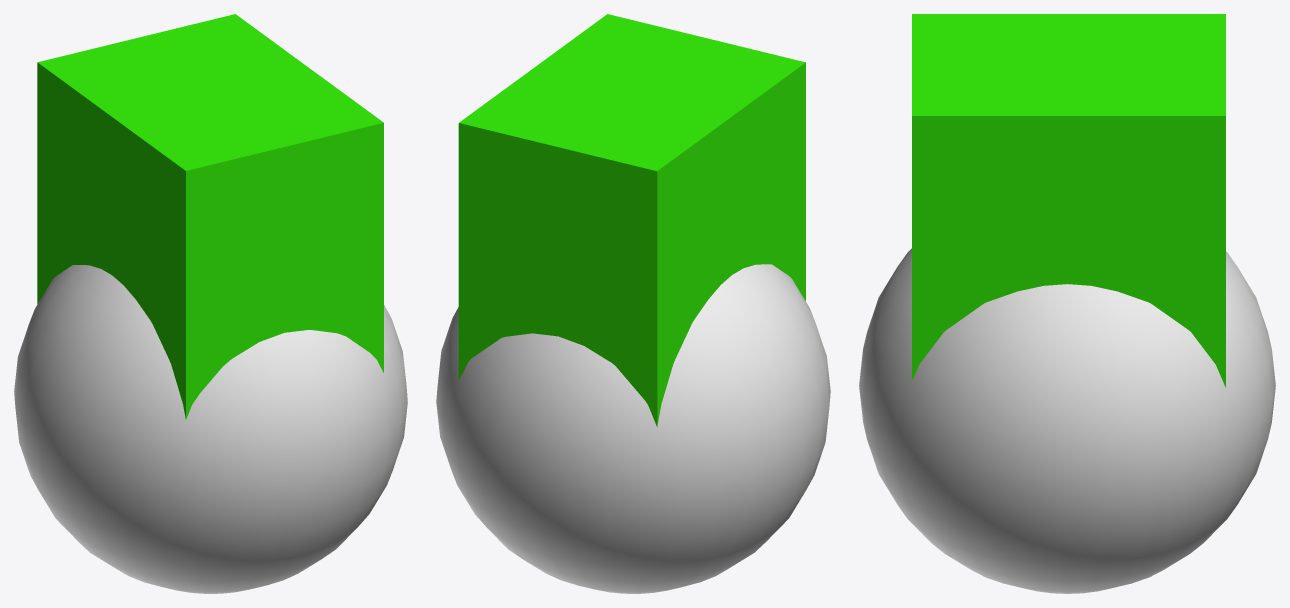
Rendered from log2.FBX.
The picture shows the model from 3 angles, left to right: view 1: azimuth 30°, elevation 25°; view 2: azimuth 150°, elevation 25°; view 3: azimuth 270°, elevation 25°; orthographic projection. The views are drawn at different scales.
Parts seen in each view (by area): view 1: Box001, BoundingSphere; view 2: Box001, BoundingSphere; view 3: BoundingSphere, Box001.
Boxes of the visible parts, x1,y1,x2,y2 form: Box001: [37, 14, 383, 419]; BoundingSphere: [14, 265, 407, 593]; Box001: [458, 14, 805, 426]; BoundingSphere: [436, 264, 830, 593]; BoundingSphere: [859, 248, 1275, 593]; Box001: [912, 14, 1225, 387].
Bounding box in the file's own units: 63.53 × 85.75 × 63.53.
